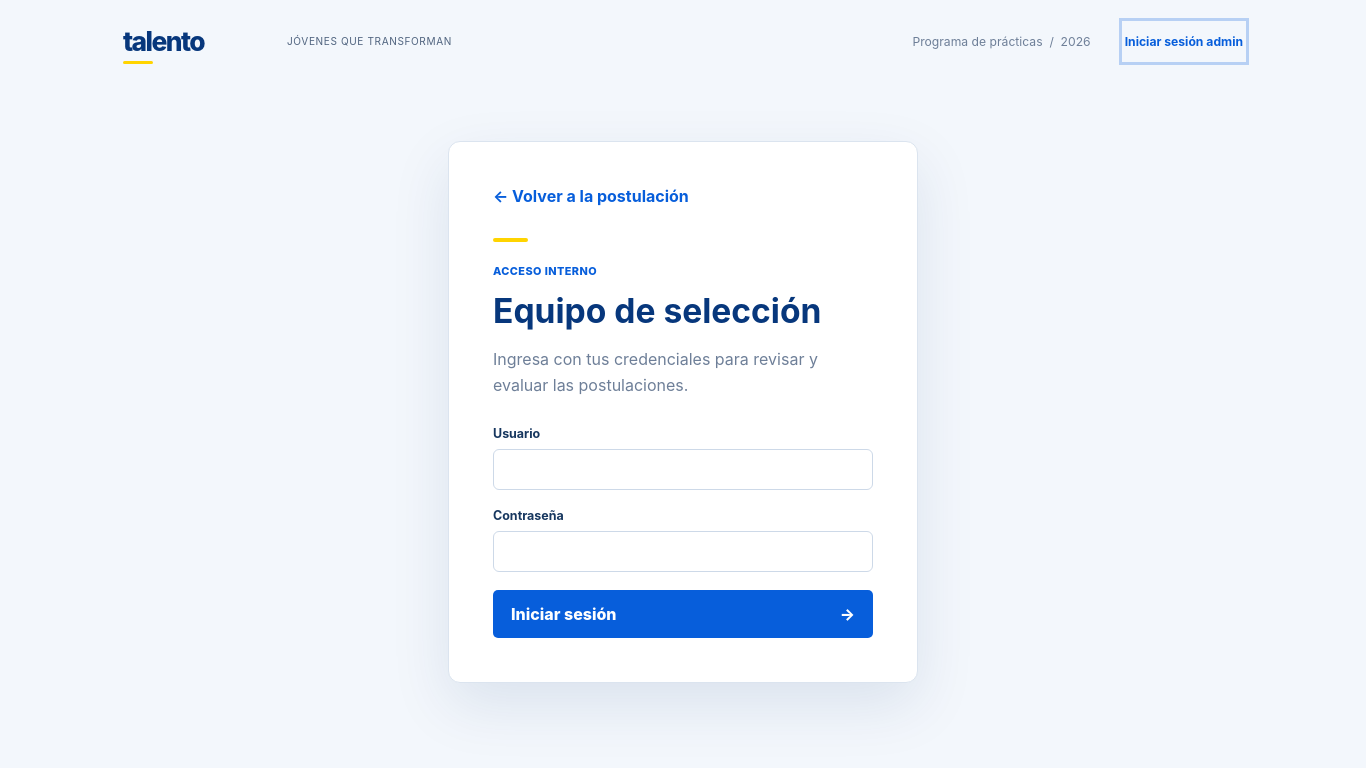
Test: App › loads a candidate detail and records a non-viable decision with a comment
The width and height of the screenshot is (1366, 768).
Earlier steps of the test are not shown.
Type "analista" into the field labelled "Usuario" at (683, 470), box [493, 449, 873, 490]
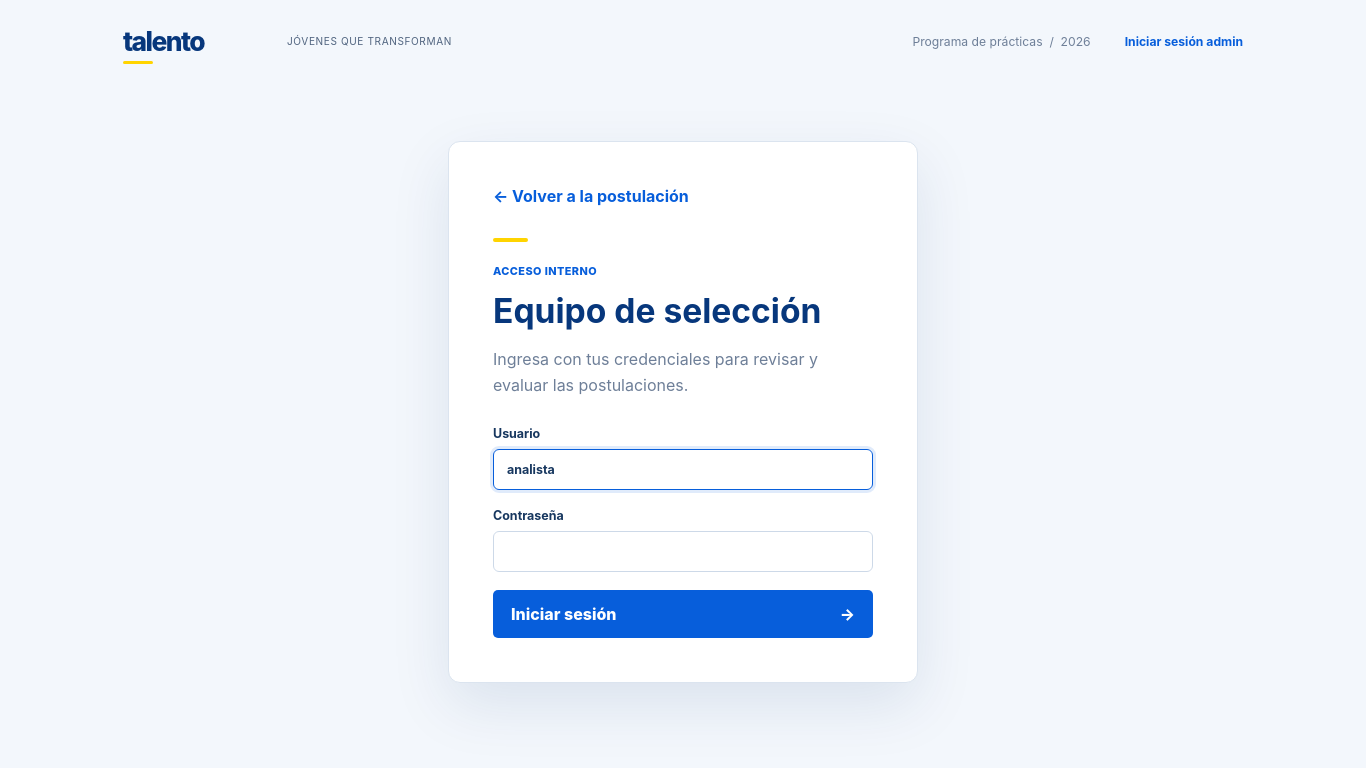
Type "secreto" into the password field labelled "Contraseña" at (683, 552), box [493, 531, 873, 572]
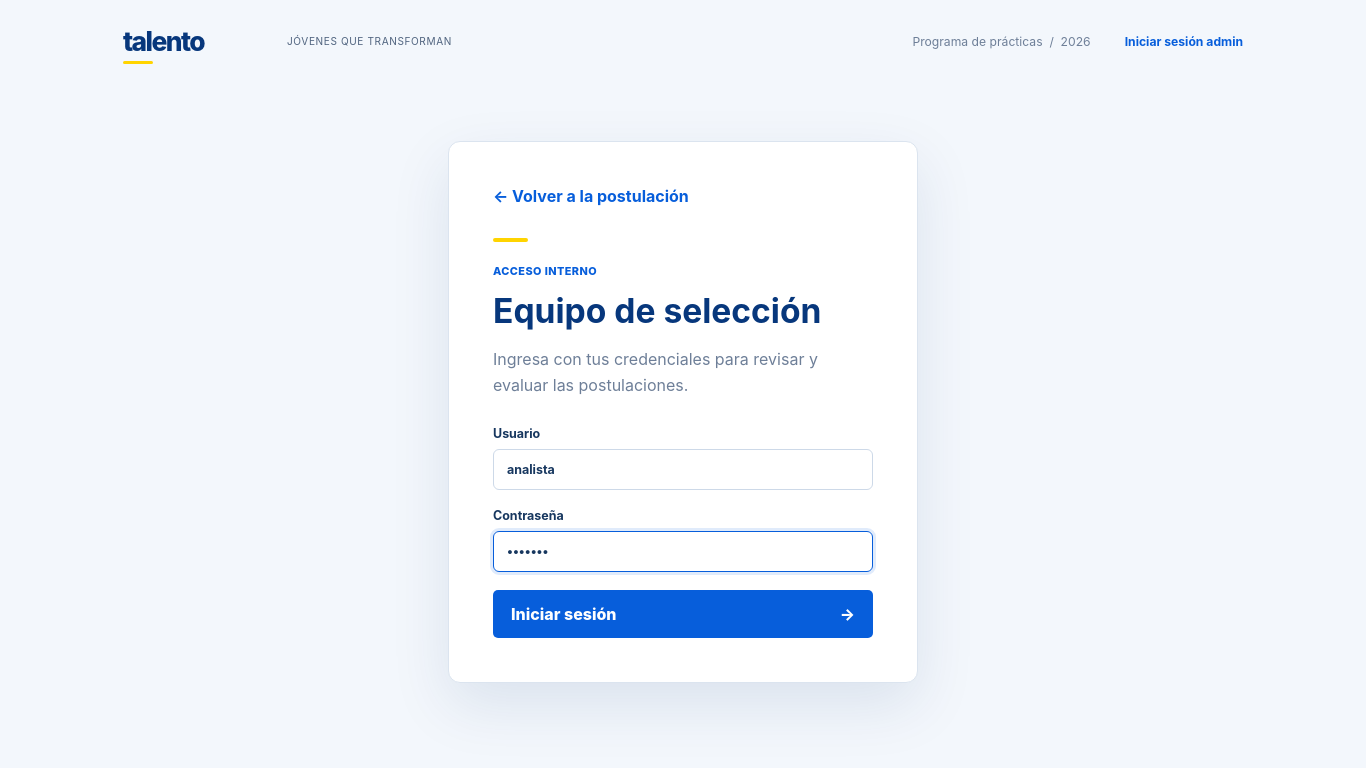
Click the button "Iniciar sesión →" at (564, 614), box [493, 590, 873, 638]
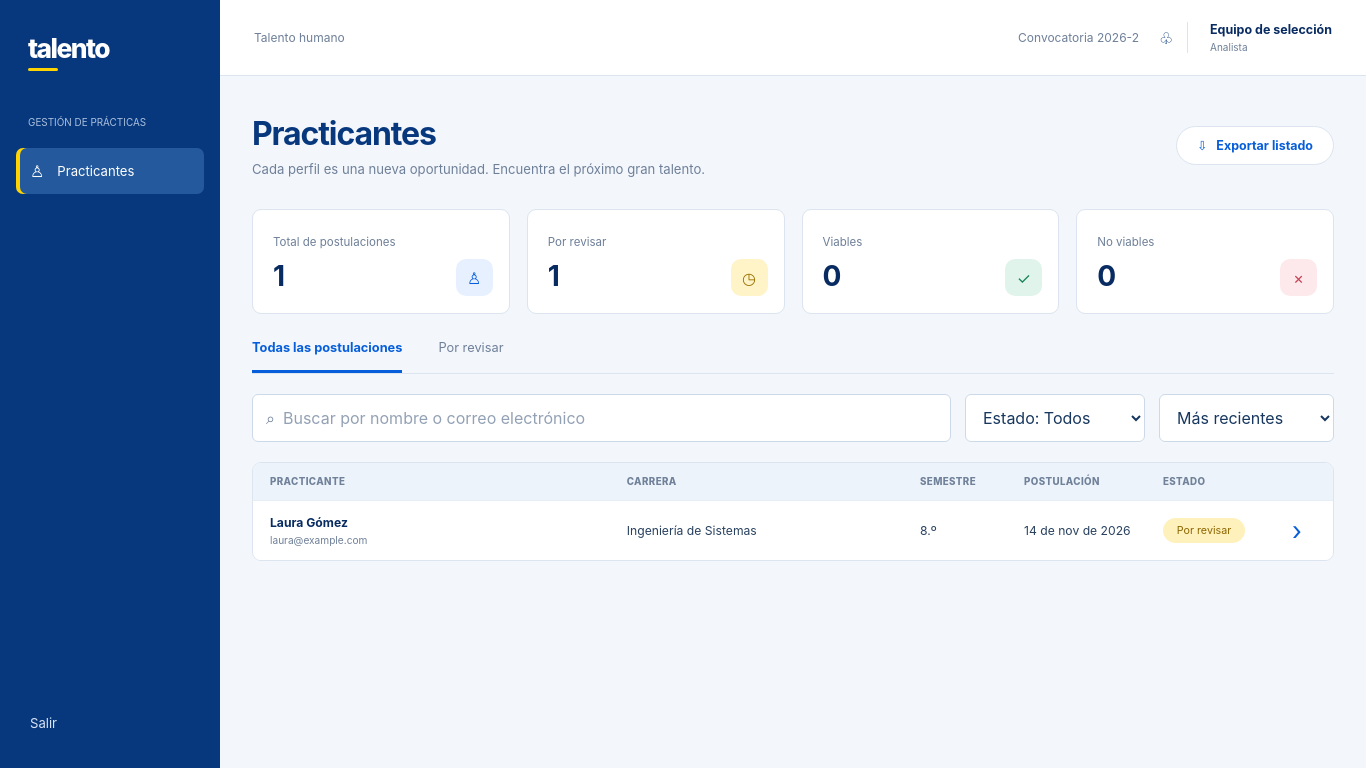
Click the button with aria-label "ver perfil de laura gómez" at (309, 522), box [253, 500, 1333, 560]
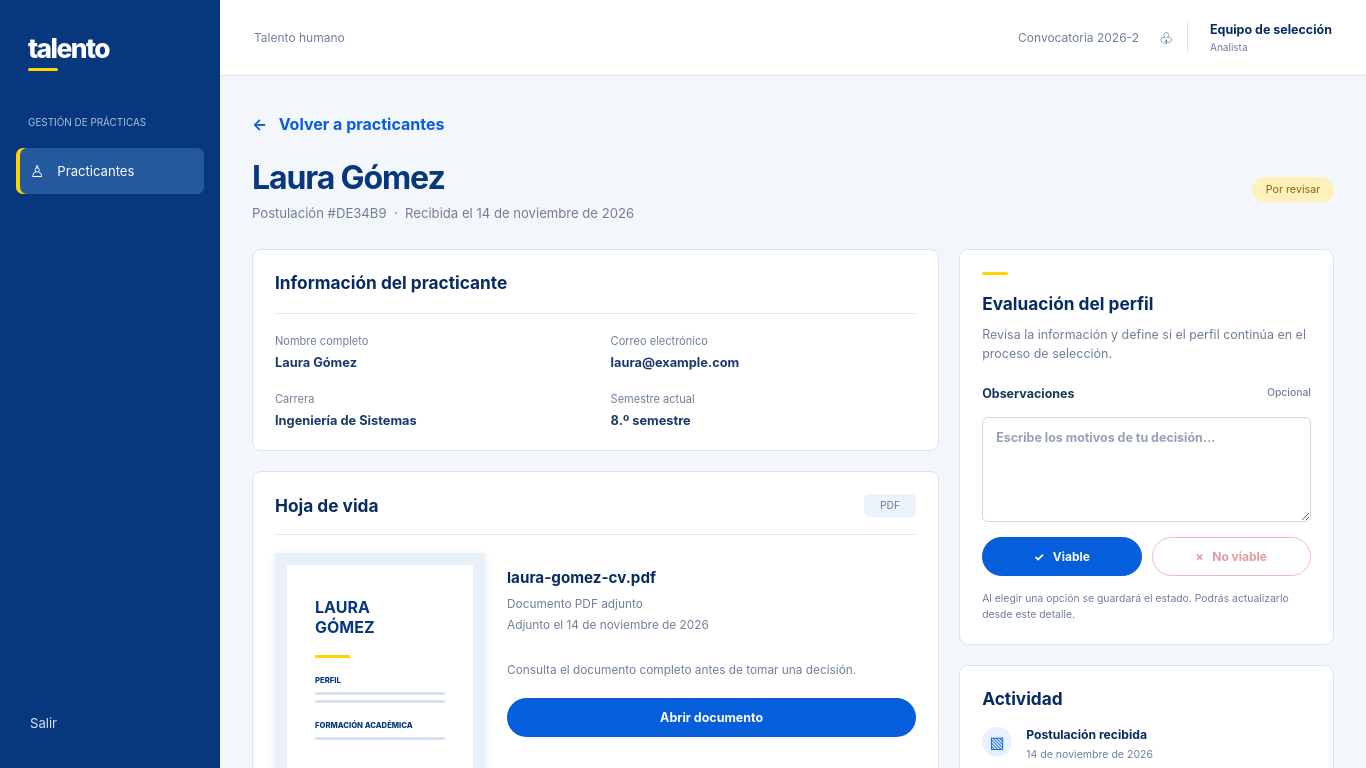
Expected: the heading "laura-gomez-cv.pdf" is shown, [507, 568, 656, 587]
Expected: the button with aria-label "descargar cv" is shown, [507, 698, 916, 737]
Type "Semestre no compatible" into the text box with placeholder "Escribe los motivos de tu decisión…" at (1147, 469), box [982, 417, 1311, 522]
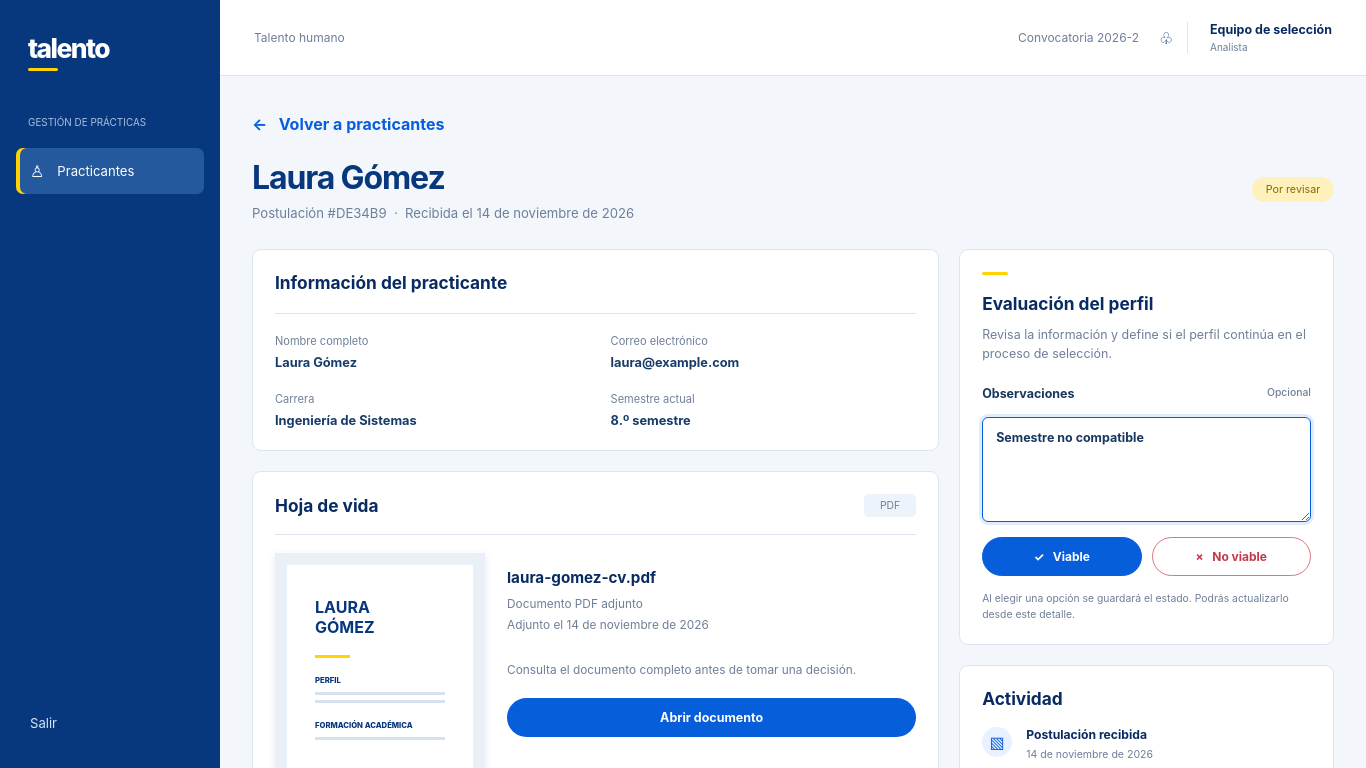
Click the button "× No viable" at (1231, 556), box [1152, 537, 1311, 576]
(page scrolled)
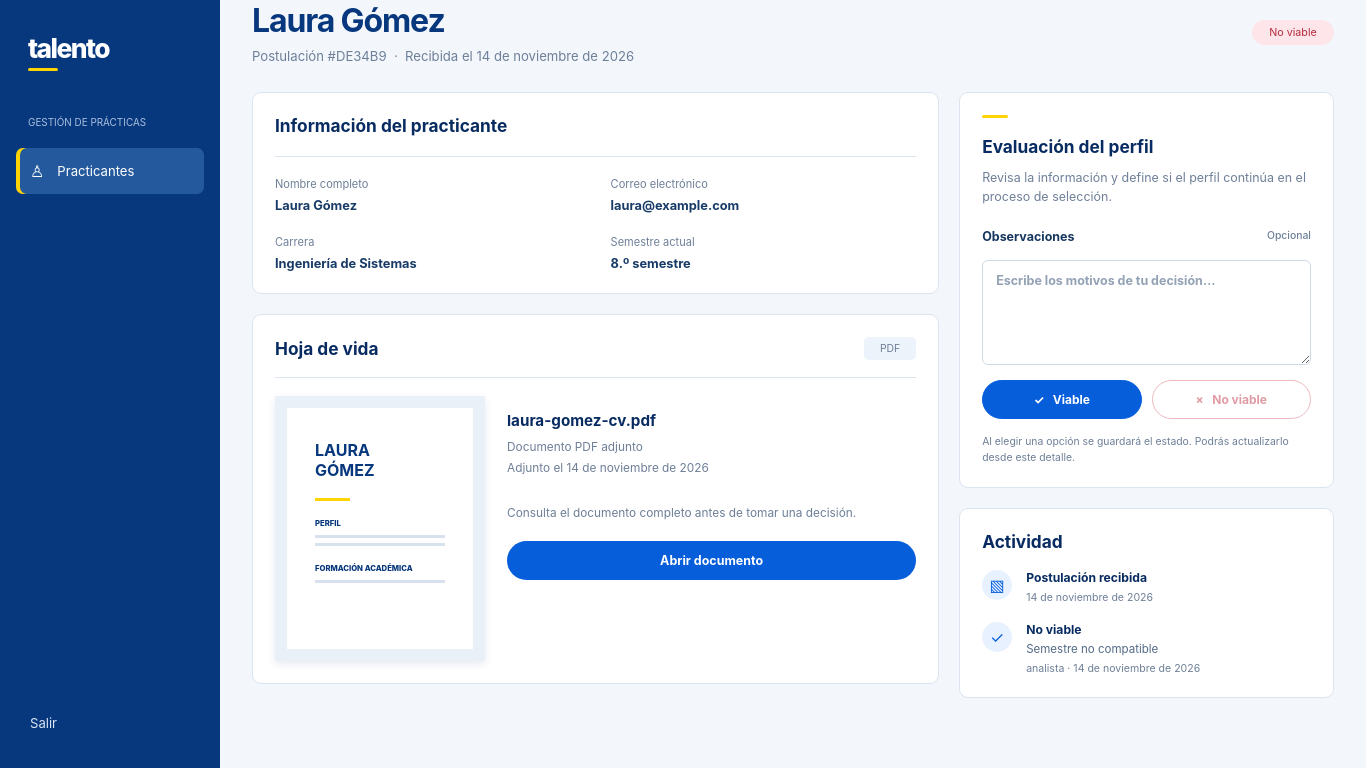
Expected: the text "Semestre no compatible" is shown, [1026, 642, 1158, 656]
